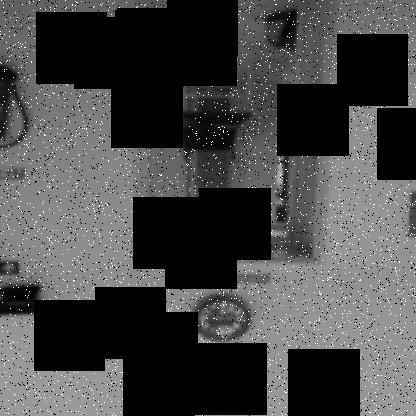Porte: (134, 1, 336, 272)
